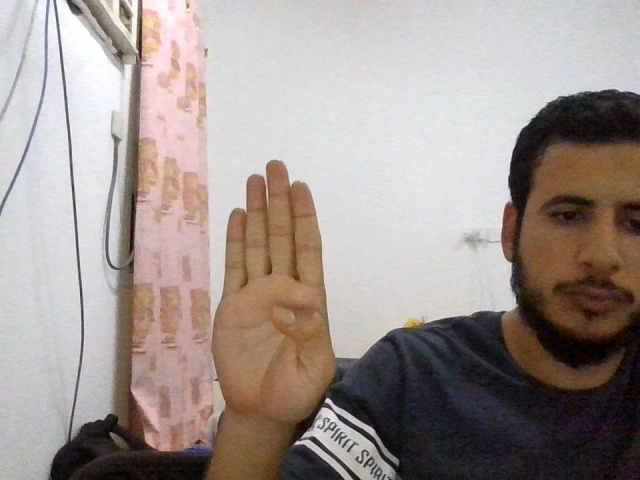Five: (211, 158, 337, 423)
